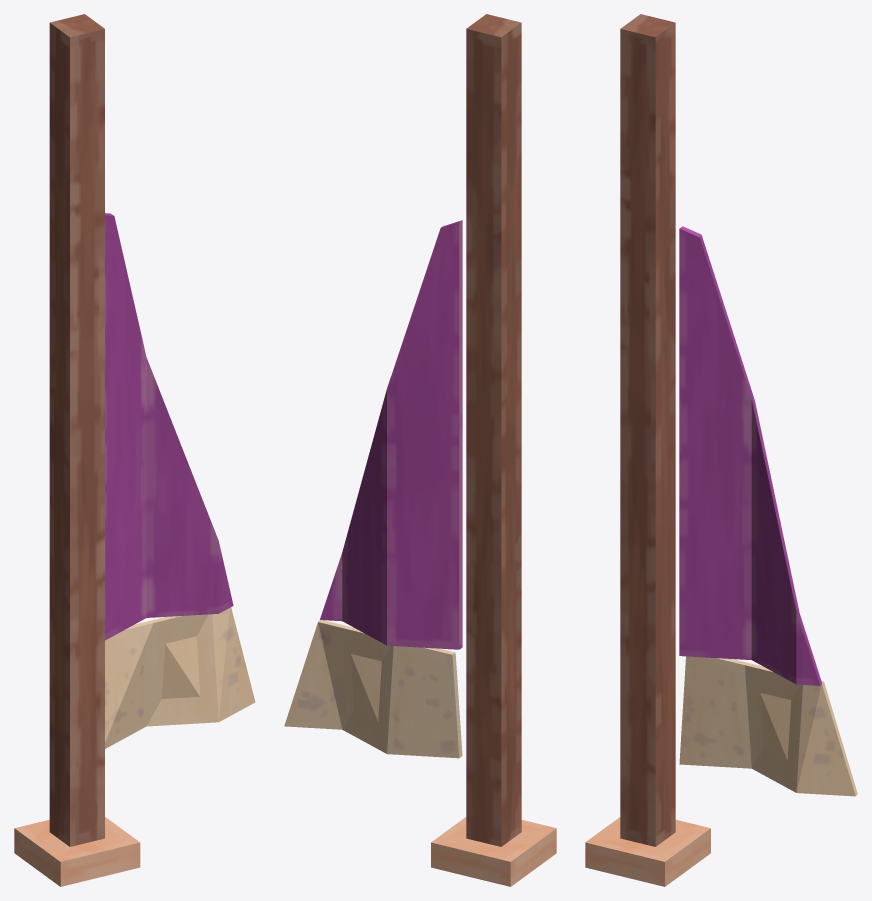
File: rack_plum_s01.fbx
3 renders of one model, left to right at view 1: azimuth 30°, elevation 25°; view 2: azimuth 150°, elevation 25°; view 3: azimuth 330°, elevation 25°, orthographic.
Visible parts, largest first — view 1: rack_plum_s01; view 2: rack_plum_s01; view 3: rack_plum_s01.
Part boxes in pixels (x1,y1,x2,y2): rack_plum_s01: (14, 14, 255, 886); rack_plum_s01: (284, 14, 556, 886); rack_plum_s01: (585, 14, 857, 886).
Bounding box in the file's own units: 2.92 × 10 × 1.
